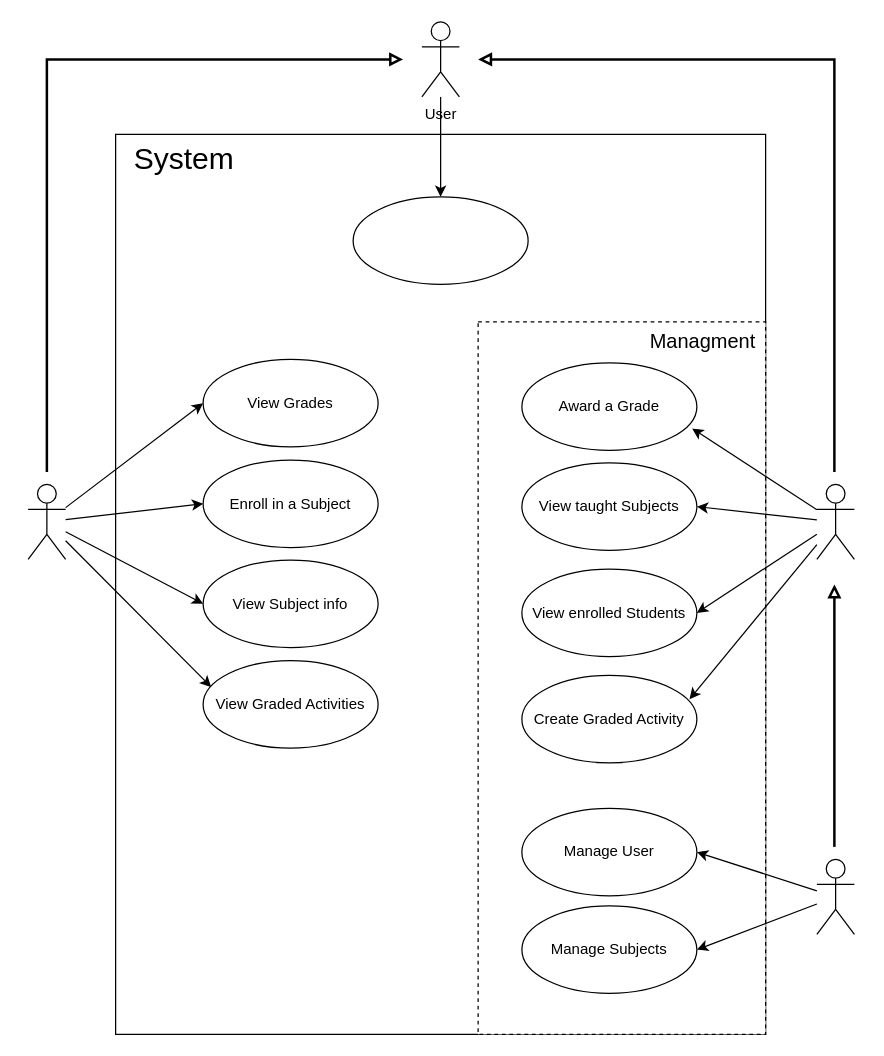
Some shapes in this 884 by 1056 pixel diagram are drawn without their labels. The centre of each missing label's shape, as x and y in pixels:
Admin: point (835, 896)
Manage personal data: point (440, 240)
Student: point (46, 521)
Teacher: point (835, 521)
